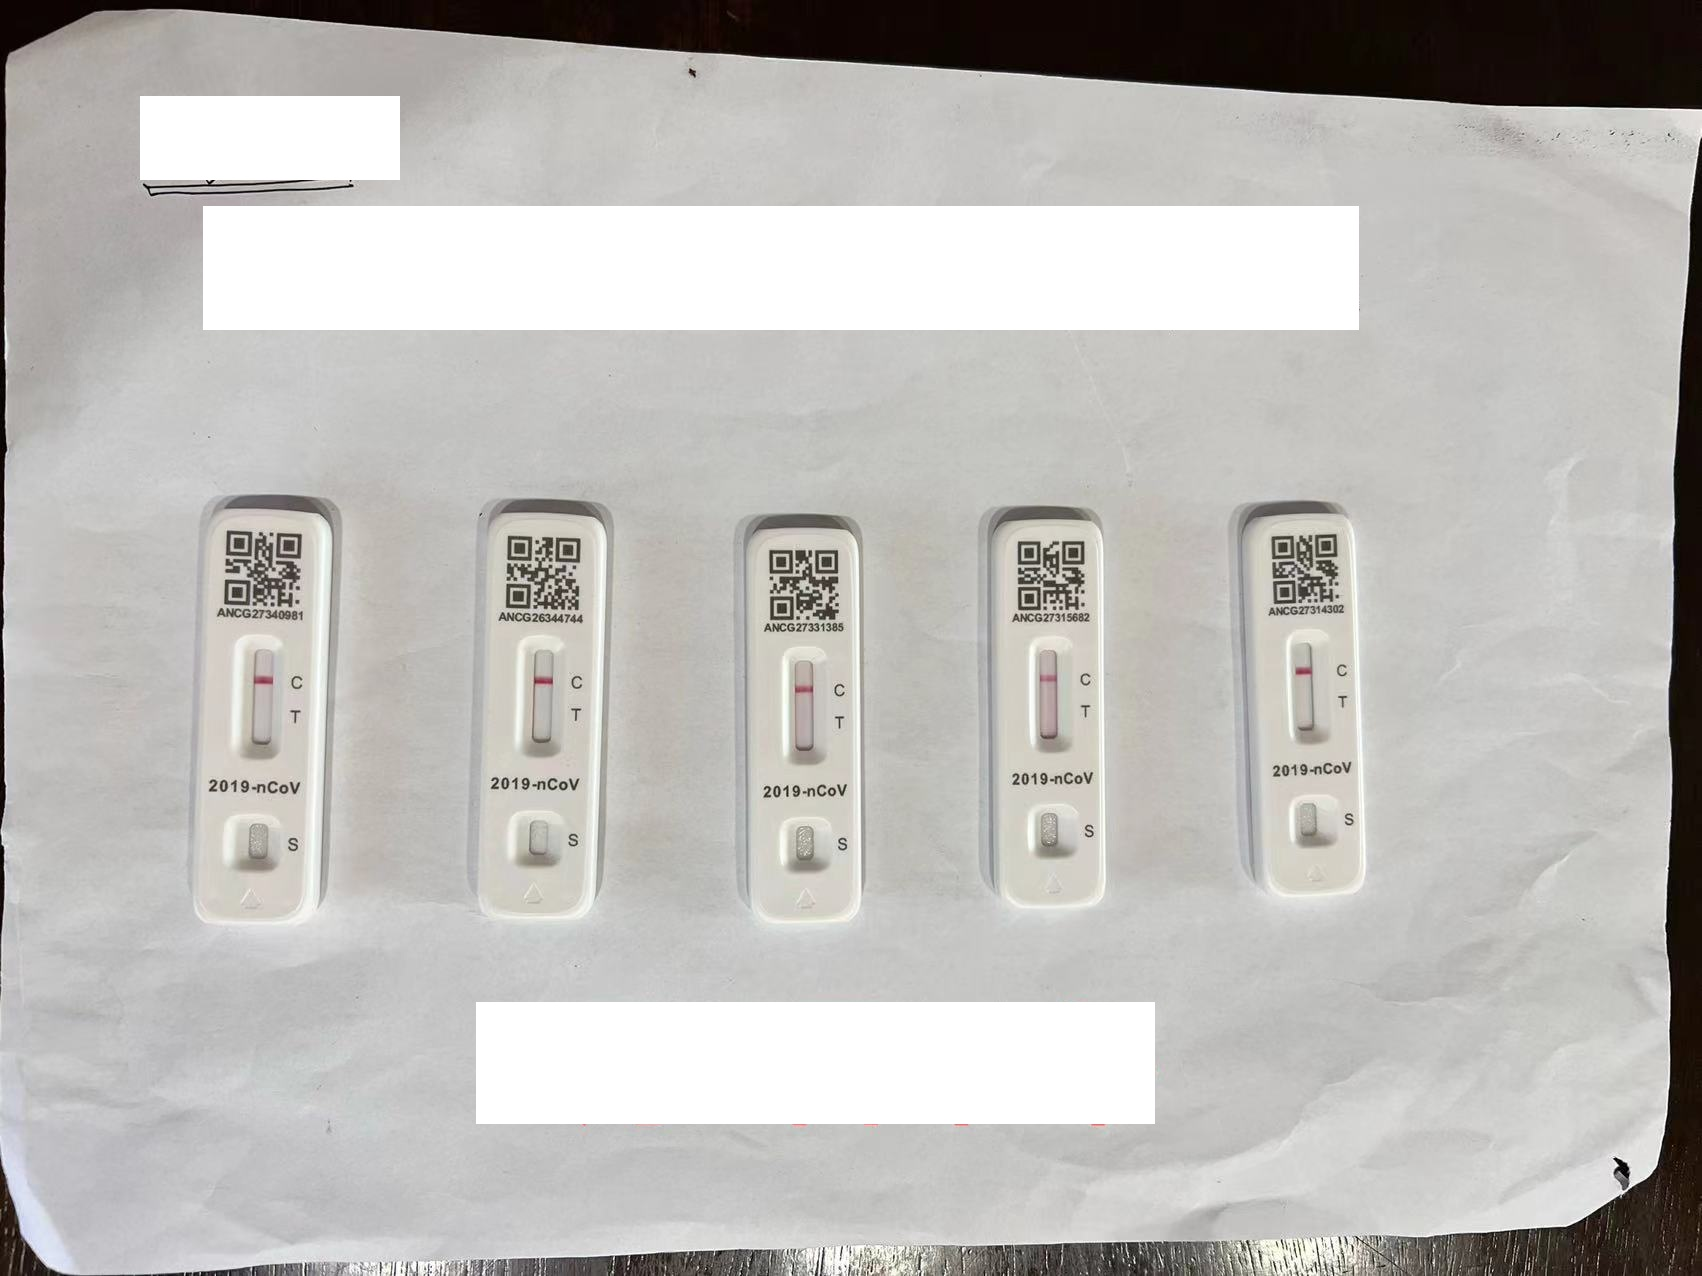negative: (228, 629, 284, 764), (1023, 626, 1075, 759), (784, 651, 823, 760)
